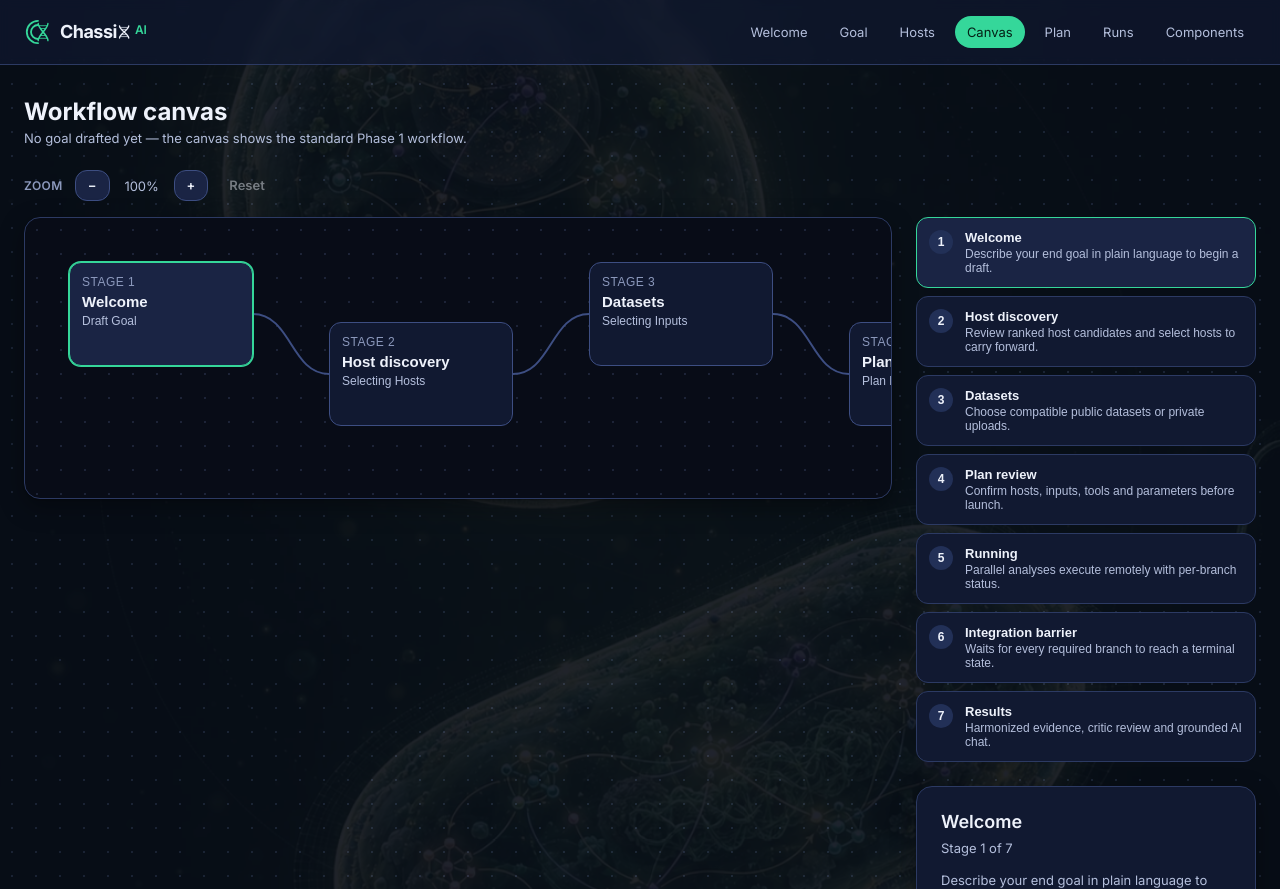
Scenario: CanvasPage (Screen 2, Phase 1 exit) › exposes keyboard-operable zoom controls
Expected: the text "100%" is shown, [124,178,159,194]
Click the button named "Zoom in": (191, 186) [174,170,208,201]
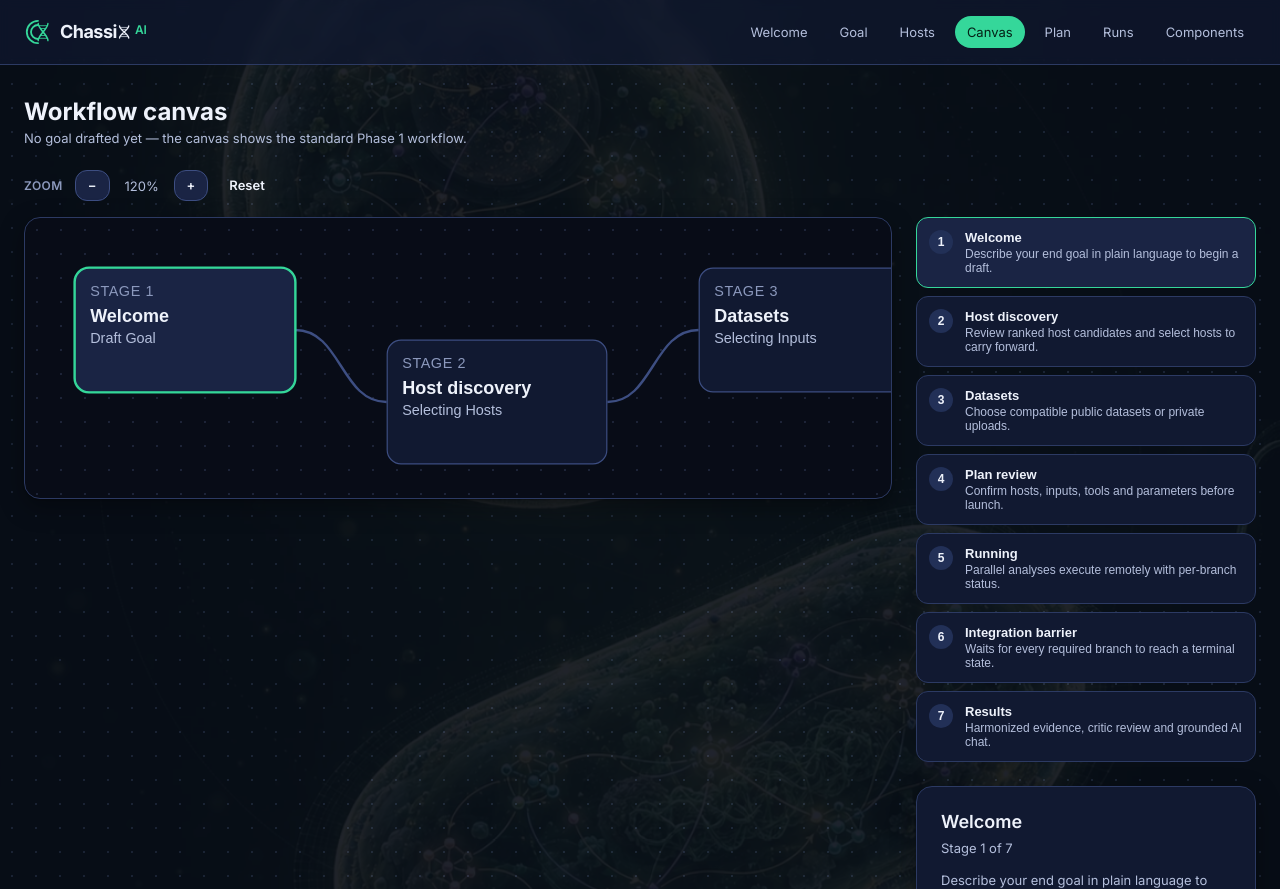
Expected: the text "120%" is shown, [124,178,159,194]
Click the button named "Zoom out": (92, 186) [75,170,110,201]
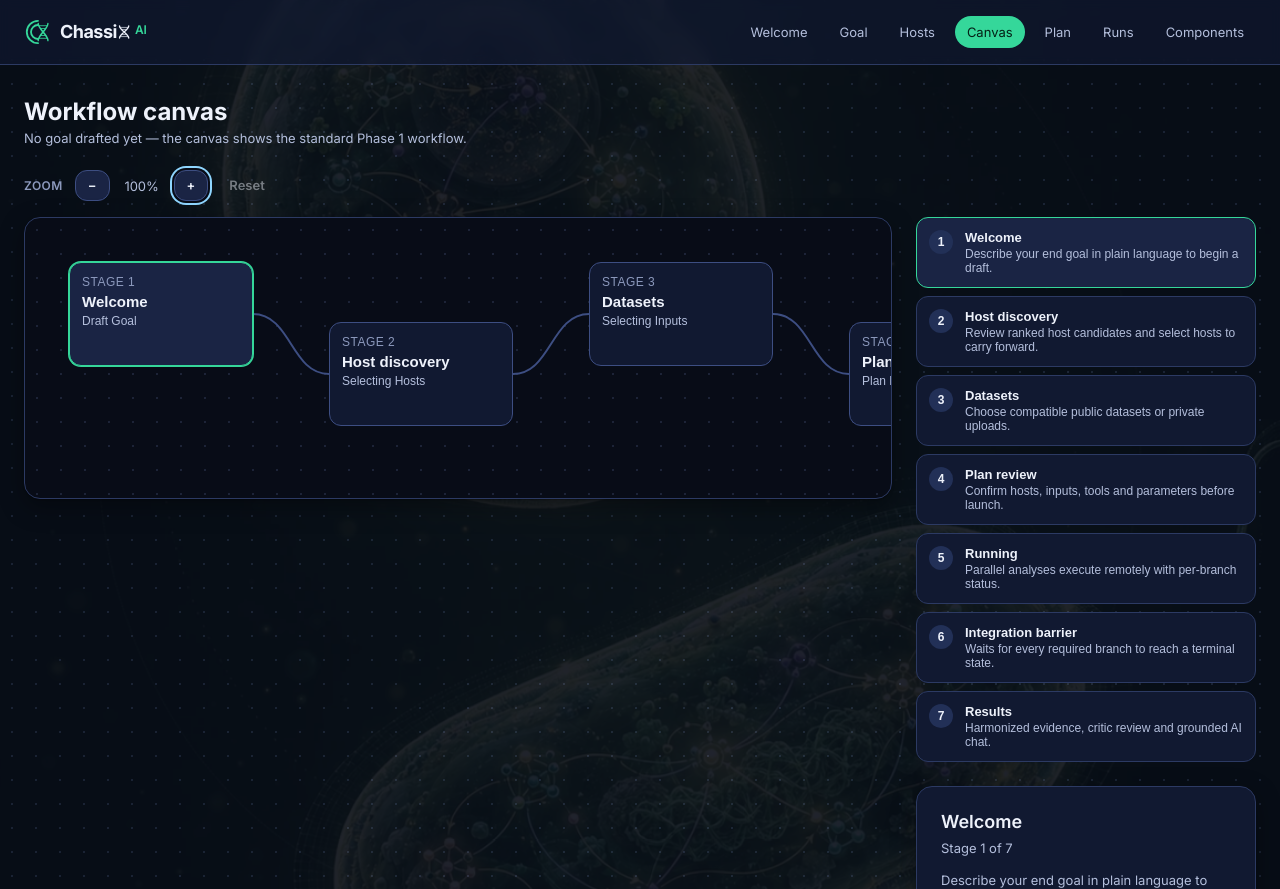
Expected: the text "100%" is shown, [124,178,159,194]
